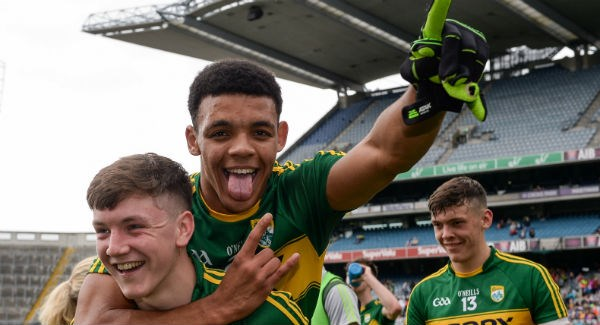player: (170, 57, 363, 324), (77, 154, 303, 320), (411, 179, 566, 323)
